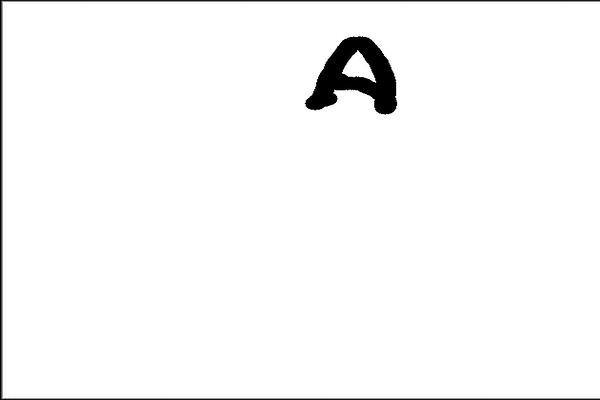A: (304, 27, 404, 124)
